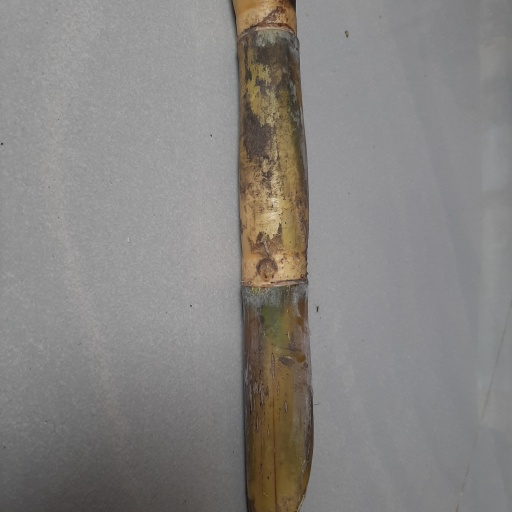Damage_Bud: (256, 256, 280, 283)
